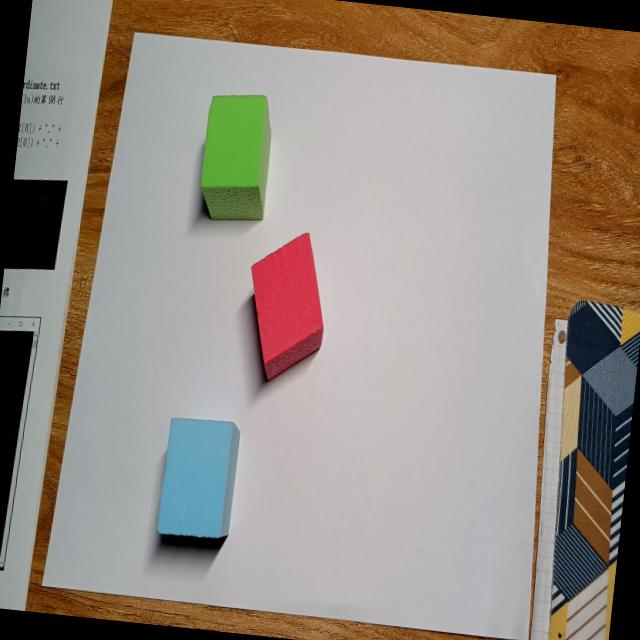BLUE: (157, 419, 242, 538)
GREEN: (200, 94, 271, 221)
RED: (252, 234, 323, 377)
